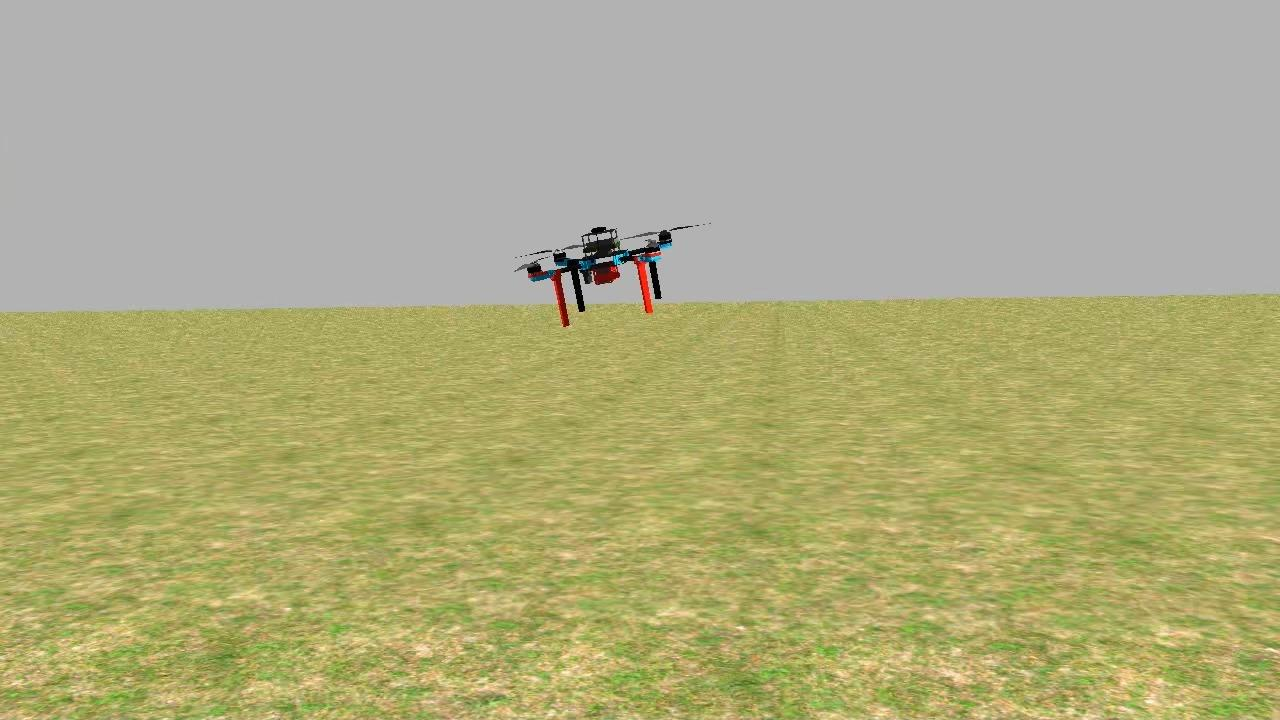UAV: (521, 216, 691, 334)
